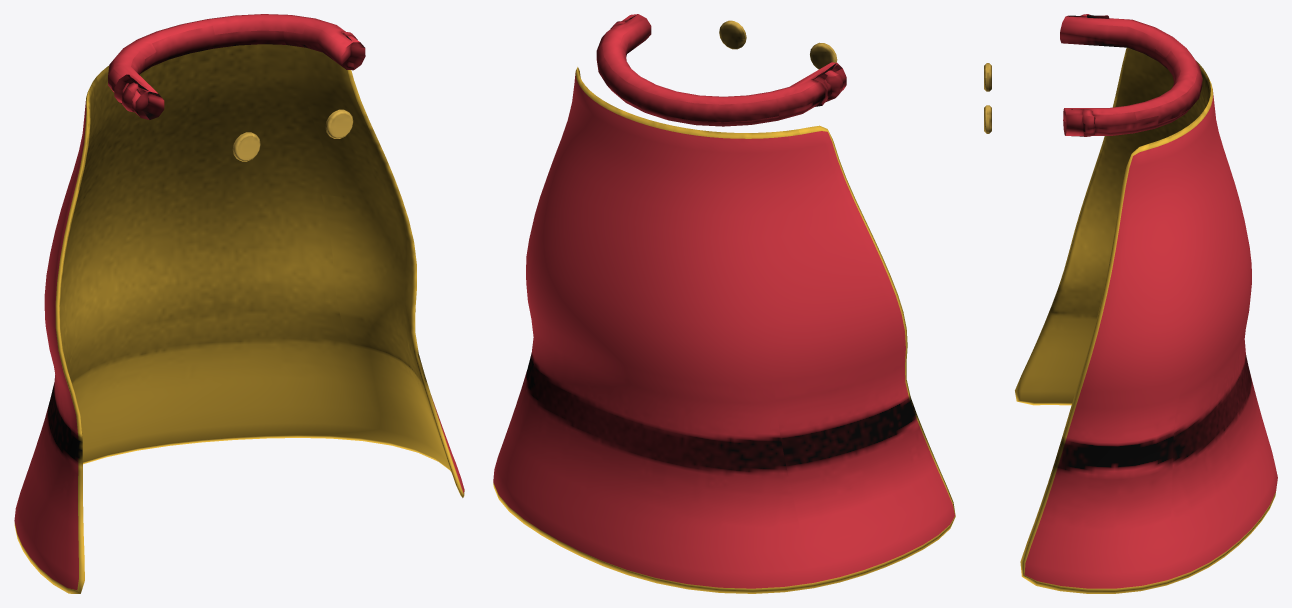
The model's file is cape_hero.glb.
3 renders of one model, left to right at view 1: azimuth 30°, elevation 25°; view 2: azimuth 150°, elevation 25°; view 3: azimuth 270°, elevation 25°, orthographic. The views are drawn at different scales.
Parts seen in each view (by area): view 1: cape_hero; view 2: cape_hero; view 3: cape_hero.
Boxes of the visible parts, x1,y1,x2,y2 form: cape_hero: (14, 14, 464, 593); cape_hero: (493, 14, 955, 593); cape_hero: (984, 14, 1277, 593).
Size of the model in its own units: 0.6833 by 0.7329 by 0.4493.
3 materials, 3 textured.
